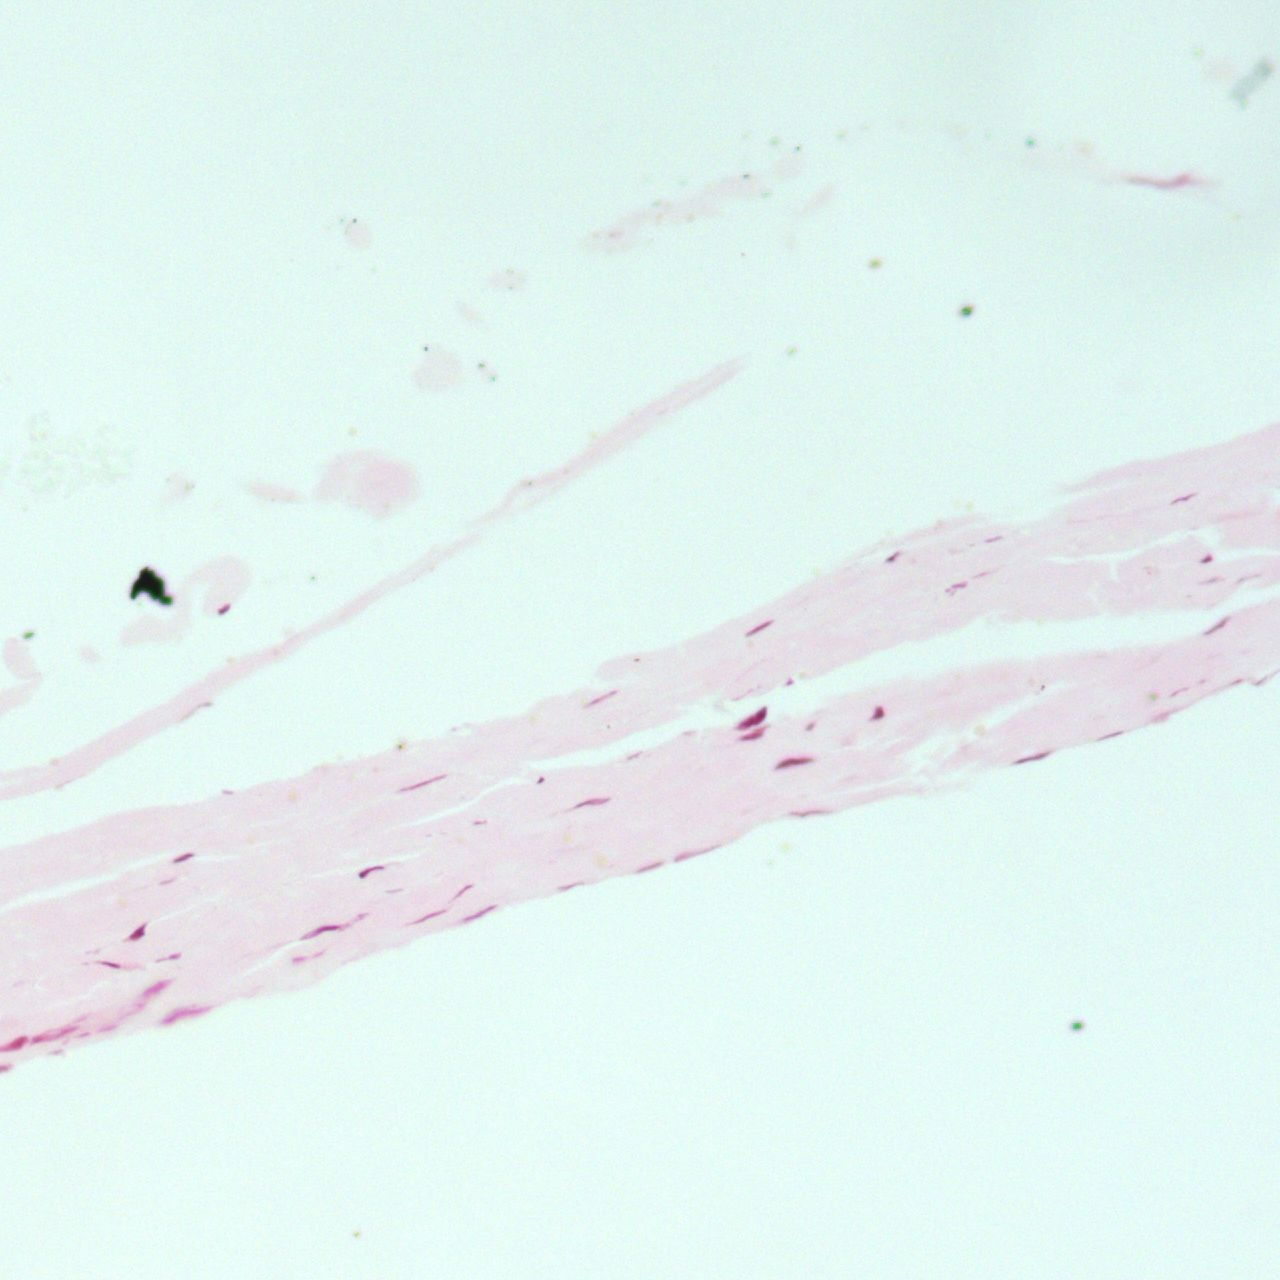dust: (125, 564, 175, 606), (959, 305, 975, 316), (869, 256, 883, 268), (788, 343, 799, 358), (787, 143, 801, 154), (347, 215, 358, 227), (1071, 1021, 1084, 1032), (1024, 135, 1035, 147), (309, 571, 318, 583), (478, 362, 488, 372), (23, 631, 34, 639), (537, 774, 545, 784), (422, 347, 433, 354), (632, 656, 639, 663), (399, 743, 404, 750), (488, 376, 495, 382)
nucleus-AC: (158, 998, 212, 1027), (29, 1020, 80, 1047), (403, 905, 449, 930), (734, 704, 771, 731), (399, 772, 445, 794), (137, 978, 173, 1003), (459, 901, 499, 924), (580, 688, 619, 710), (299, 922, 341, 941), (673, 845, 717, 863), (1201, 614, 1233, 639), (1012, 749, 1051, 768), (742, 618, 774, 638), (445, 881, 475, 903), (737, 726, 768, 744), (774, 755, 813, 769), (355, 862, 384, 880), (1167, 491, 1198, 508), (169, 849, 197, 866), (1167, 682, 1193, 700), (1096, 728, 1125, 743), (155, 949, 183, 965), (554, 879, 585, 893), (127, 922, 147, 942), (635, 860, 663, 874), (574, 798, 610, 808), (789, 810, 832, 817), (626, 747, 646, 761), (98, 958, 121, 969), (1252, 674, 1268, 688), (948, 581, 967, 593), (1224, 678, 1242, 689), (290, 953, 308, 964), (1201, 576, 1223, 584), (216, 602, 230, 614), (98, 1024, 118, 1033), (873, 706, 884, 720), (1199, 554, 1214, 564), (985, 536, 1003, 543), (223, 788, 234, 796), (474, 819, 486, 825), (784, 679, 794, 685)
